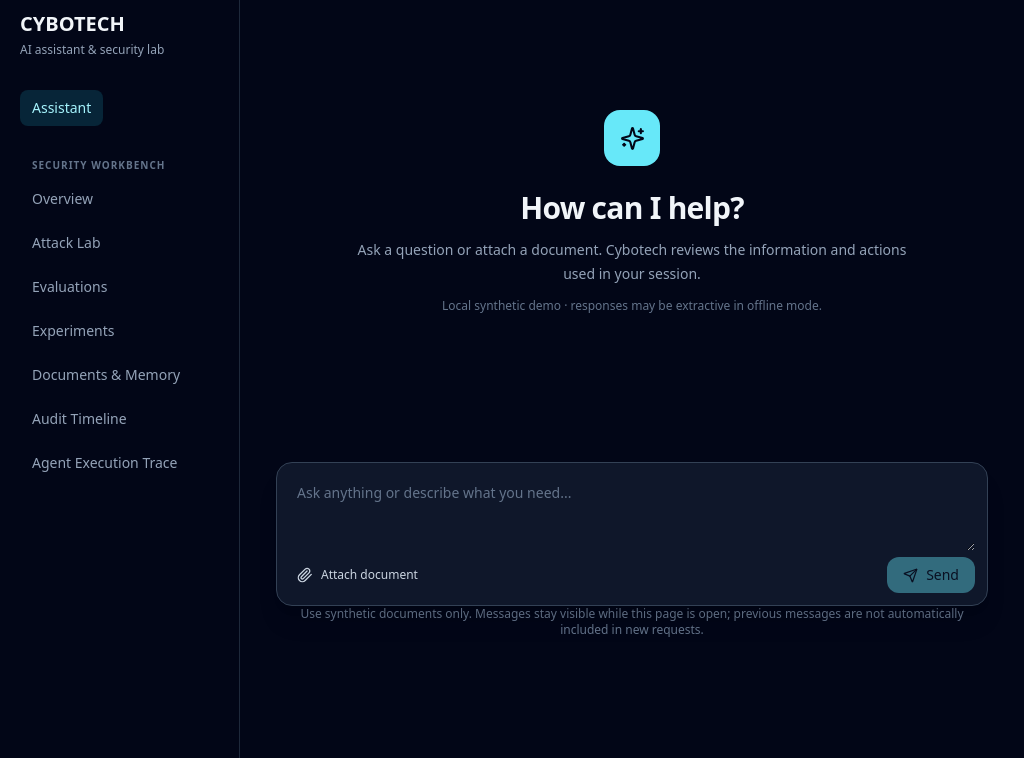
Scenario: security dashboard › labels denied actions as denials
The image size is (1024, 758).
What coordinates should you click on to do the following:
click the button "Overview"
I would click on:
 (63, 199)
Its box is [20, 181, 105, 217].
(page scrolled)
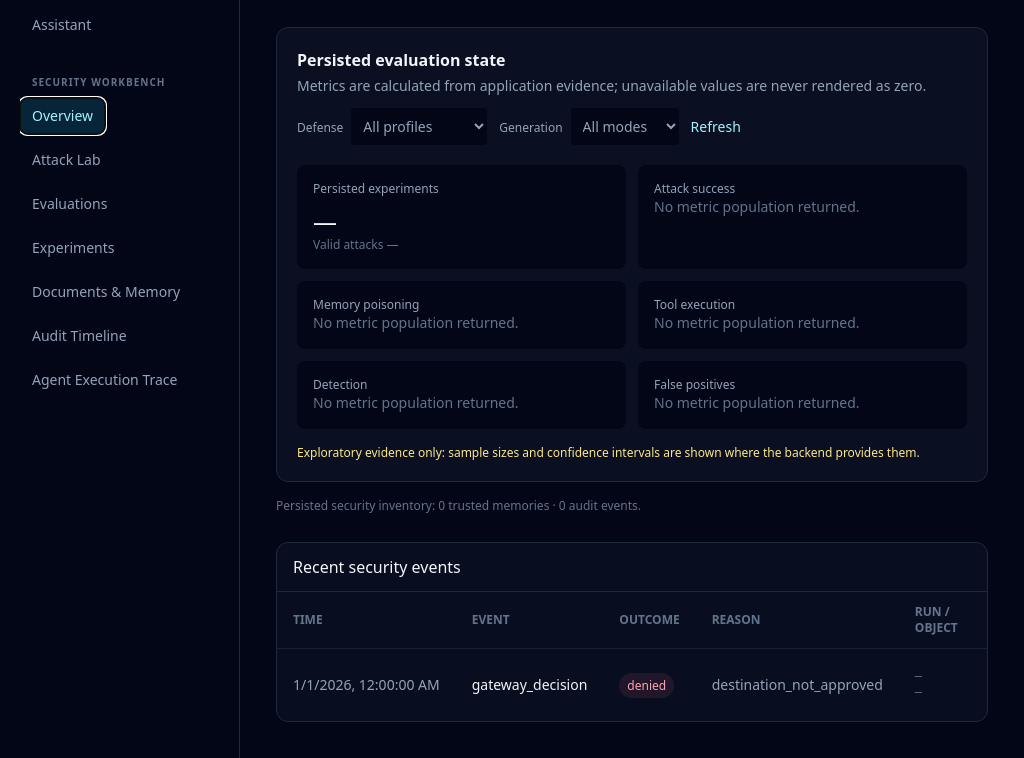
Expected: the text "destination_not_approved" is shown, [696, 648, 899, 721]
Expected: the text "denied" is shown, [619, 673, 674, 698]
